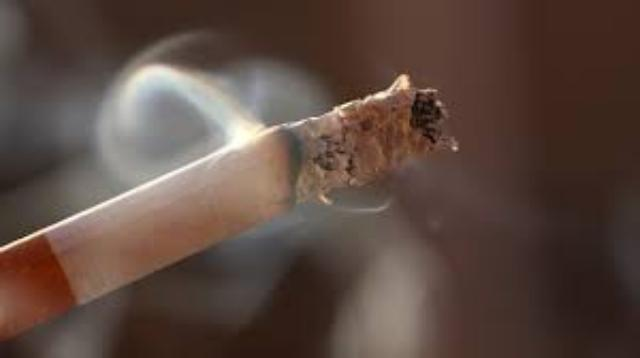Cigarette: (0, 74, 458, 352)
